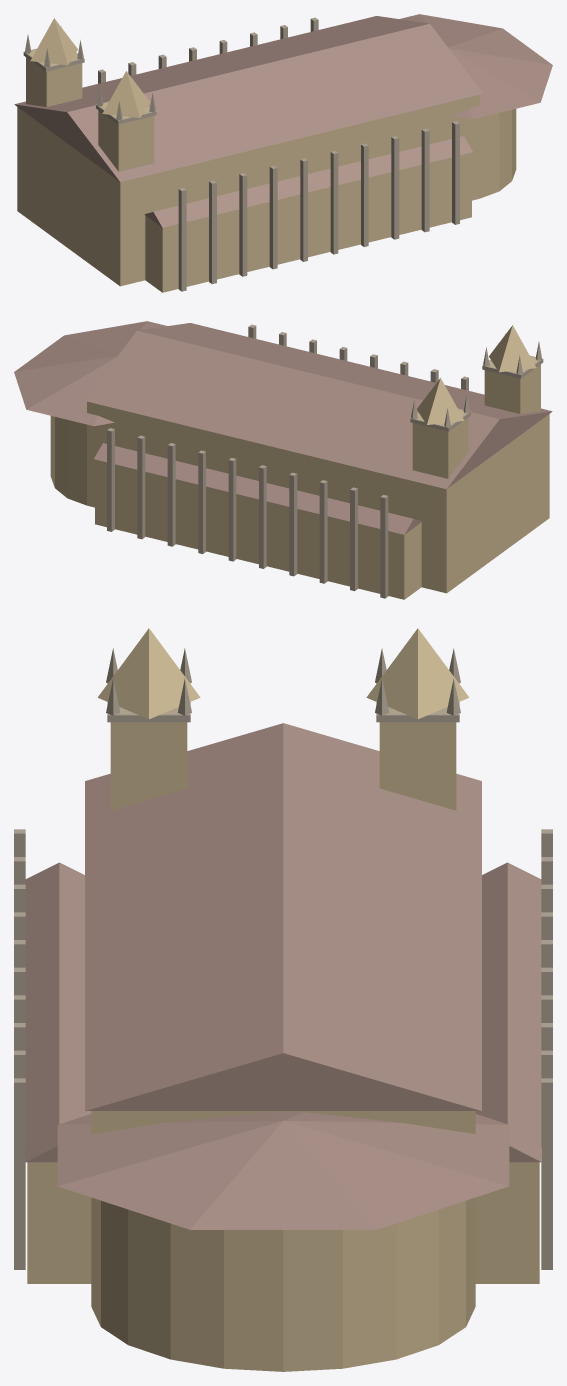
The model's file is catedralpalma.glb.
The picture shows the model from 3 angles, top to bottom: view 1: azimuth 30°, elevation 25°; view 2: azimuth 150°, elevation 25°; view 3: azimuth 270°, elevation 25°; orthographic projection. The views are drawn at different scales.
Size of the model in its own units: 155 by 64 by 84.2.
